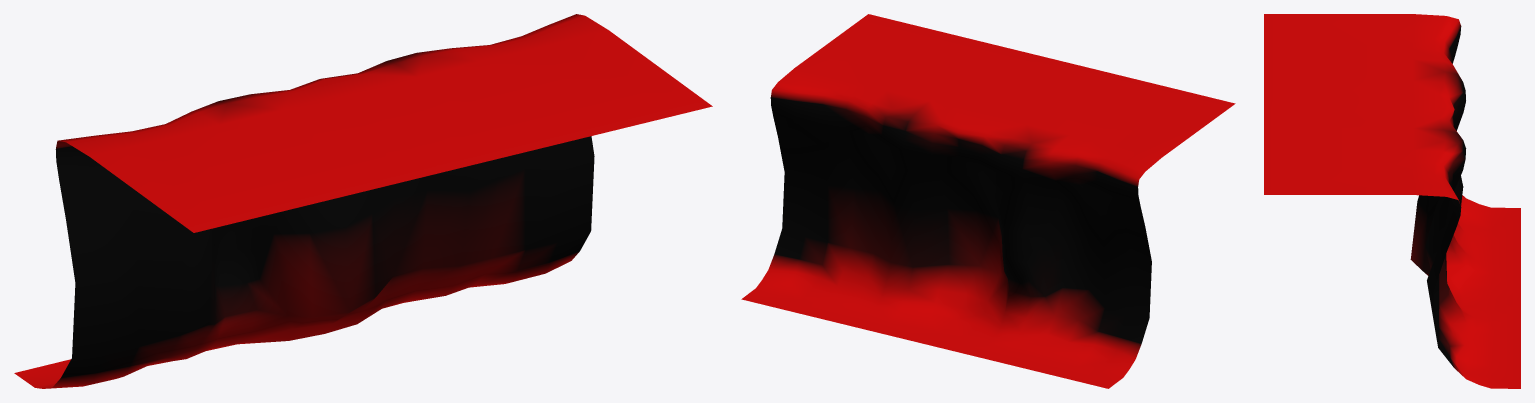
Rendered from GroundCliff01B 1M Background.fbx.
3 views of the same model, side by side, from view 1: azimuth 30°, elevation 25°; view 2: azimuth 150°, elevation 25°; view 3: azimuth 270°, elevation 25° (orthographic). The views are drawn at different scales.
Visible parts, largest first — view 1: GroundCliff01B 1M Background; view 2: GroundCliff01B 1M Background; view 3: GroundCliff01B 1M Background.
Boxes of the visible parts, x1,y1,x2,y2 form: GroundCliff01B 1M Background: (14, 14, 712, 388); GroundCliff01B 1M Background: (741, 14, 1235, 388); GroundCliff01B 1M Background: (1264, 14, 1520, 388).
Size of the model in its own units: 2 by 1 by 1.2.
